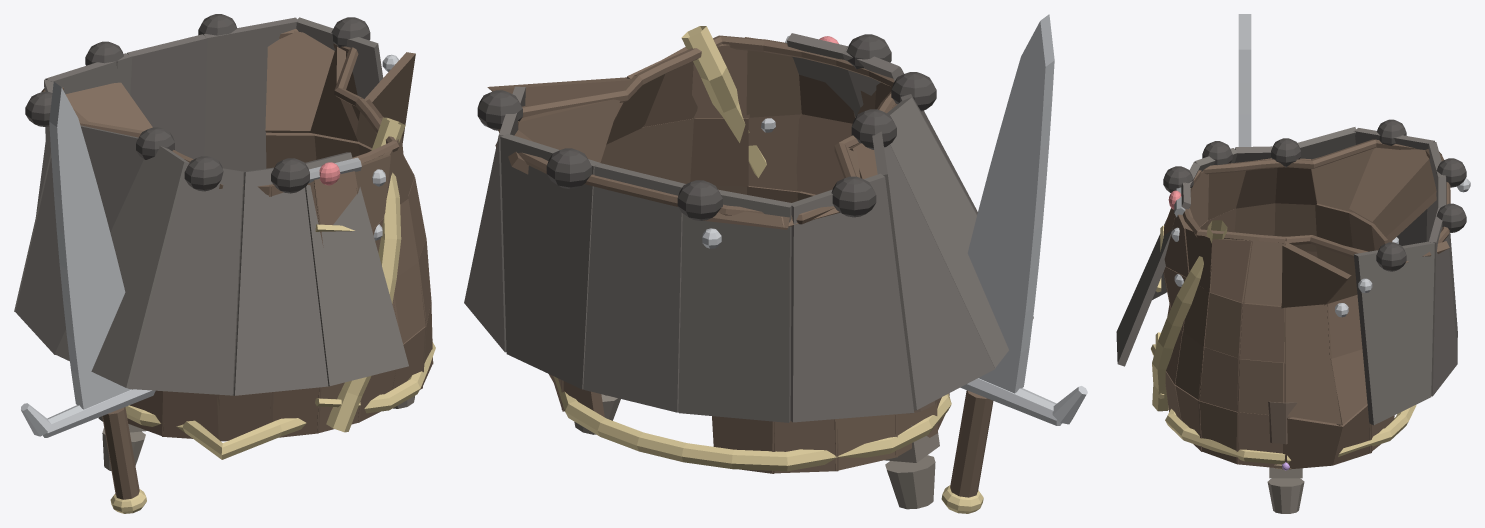
The model's file is rogue_kit.glb.
3 renders of one model, left to right at view 1: azimuth 30°, elevation 25°; view 2: azimuth 150°, elevation 25°; view 3: azimuth 270°, elevation 25°, orthographic. The views are drawn at different scales.
Visible parts, largest first — view 1: Acc_Cloak_cloth_rogue, Armour_Jerkin_leather_rogue, Weapon_metal_rogue, Armour_Jerkin_trim_rogue, Acc_Cloak_dark_rogue, Weapon_leather_rogue, Acc_GloveR_cloth_rogue, Weapon_trim_rogue, Armour_Jerkin_metal_rogue; view 2: Acc_Cloak_cloth_rogue, Armour_Jerkin_leather_rogue, Weapon_metal_rogue, Armour_Jerkin_trim_rogue, Acc_Cloak_dark_rogue, Weapon_leather_rogue, Acc_GloveR_cloth_rogue, Weapon_trim_rogue; view 3: Armour_Jerkin_leather_rogue, Acc_Cloak_cloth_rogue, Armour_Jerkin_trim_rogue, Acc_Cloak_dark_rogue, Weapon_metal_rogue, Acc_GloveL_cloth_rogue, Acc_GloveL_leather_rogue, Armour_Jerkin_metal_rogue.
Part boxes in pixels (x1,y1,x2,y2): Acc_Cloak_cloth_rogue: (14,17,408,395); Armour_Jerkin_leather_rogue: (41,29,433,441); Weapon_metal_rogue: (21,82,155,437); Armour_Jerkin_trim_rogue: (125,117,435,459); Acc_Cloak_dark_rogue: (25,14,370,193); Weapon_leather_rogue: (102,407,139,499); Acc_GloveR_cloth_rogue: (98,416,146,470); Weapon_trim_rogue: (110,489,146,513); Armour_Jerkin_metal_rogue: (372,54,398,240); Acc_Cloak_cloth_rogue: (464,33,1033,422); Armour_Jerkin_leather_rogue: (487,35,949,473); Weapon_metal_rogue: (960,14,1087,425); Armour_Jerkin_trim_rogue: (553,26,951,471); Acc_Cloak_dark_rogue: (477,34,936,220); Weapon_leather_rogue: (950,390,993,497); Acc_GloveR_cloth_rogue: (885,425,939,509); Weapon_trim_rogue: (941,485,983,513); Armour_Jerkin_leather_rogue: (1158,139,1450,469); Acc_Cloak_cloth_rogue: (1116,127,1457,425); Armour_Jerkin_trim_rogue: (1151,220,1416,464); Acc_Cloak_dark_rogue: (1163,119,1466,271); Weapon_metal_rogue: (1238,14,1251,146); Acc_GloveL_cloth_rogue: (1267,467,1304,513); Acc_GloveL_leather_rogue: (1268,401,1297,444); Armour_Jerkin_metal_rogue: (1171,178,1470,317).
Bounding box in the file's own units: 1.23 × 1.13 × 0.9921.
